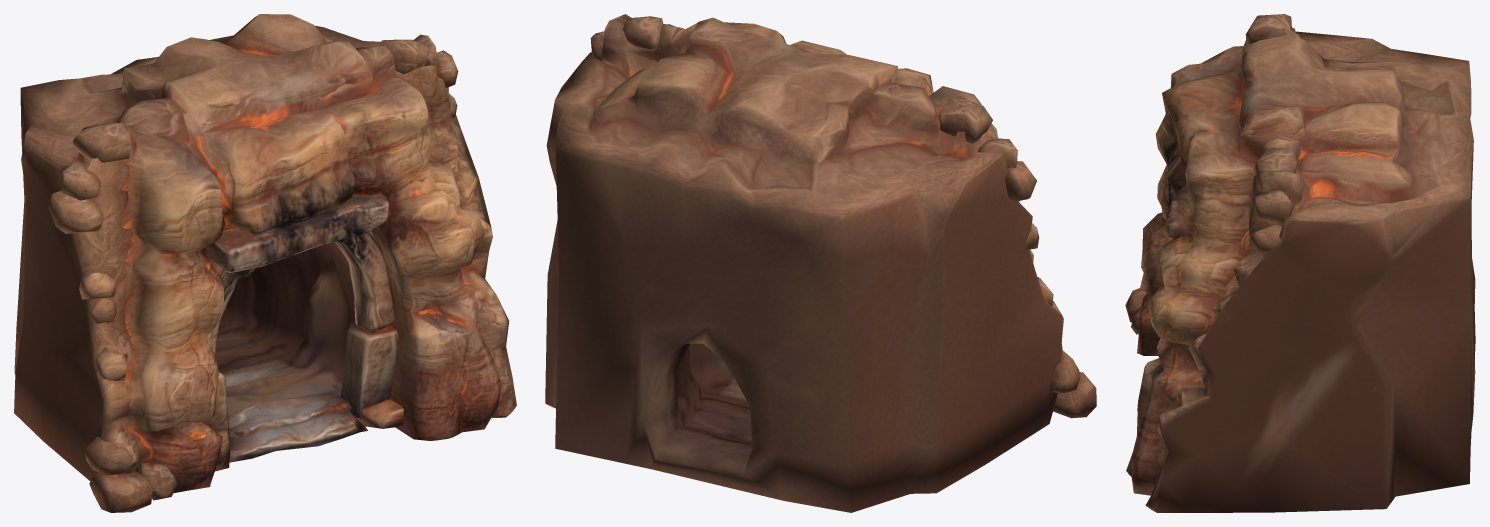
Rendered from goblin-sand-cave-mouth.glb.
The picture shows the model from 3 angles, left to right: view 1: azimuth 30°, elevation 25°; view 2: azimuth 150°, elevation 25°; view 3: azimuth 270°, elevation 25°; orthographic projection. The views are drawn at different scales.
Bounding box in the file's own units: 1 × 0.8176 × 0.7426.
Materials: 1 (1 with a texture image).
